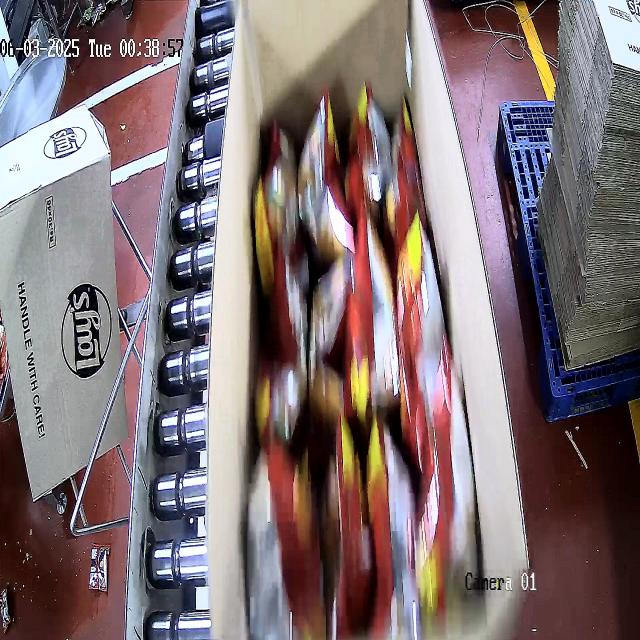MASALA: (248, 80, 467, 638)
